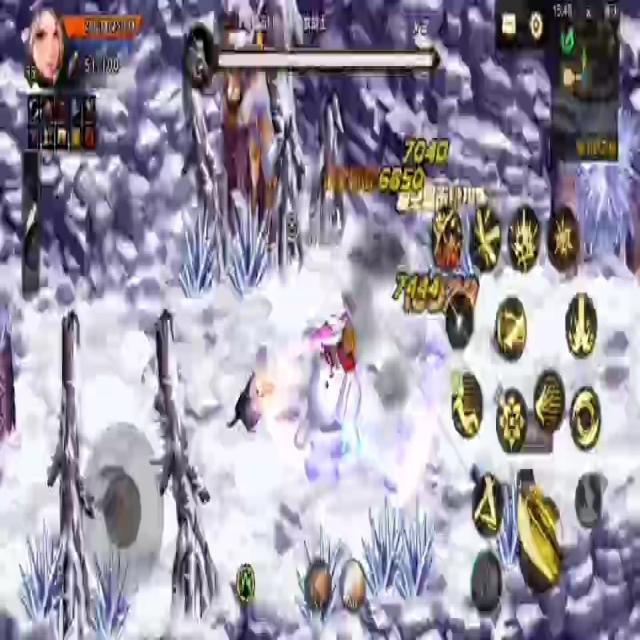player: (292, 302, 364, 467)
